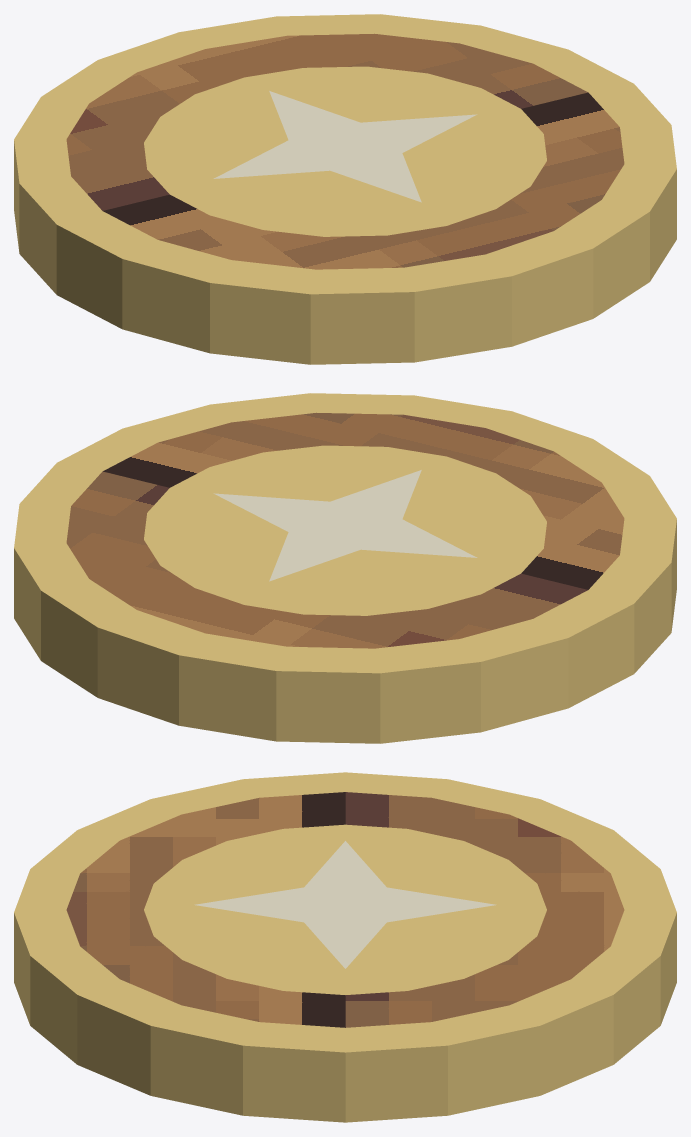
The model's file is moeda_chao.fbx.
The picture shows the model from 3 angles, top to bottom: view 1: azimuth 30°, elevation 25°; view 2: azimuth 150°, elevation 25°; view 3: azimuth 270°, elevation 25°; orthographic projection.
Parts seen in each view (by area): view 1: bosque_moeda_chao; view 2: bosque_moeda_chao; view 3: bosque_moeda_chao.
Part boxes in pixels (left/top/right/bottom): bosque_moeda_chao: left=14, top=14, right=676, bottom=364; bosque_moeda_chao: left=14, top=393, right=676, bottom=743; bosque_moeda_chao: left=14, top=772, right=676, bottom=1122.
Bounding box in the file's own units: 24 × 3.1 × 24.
3 materials, 1 textured.
